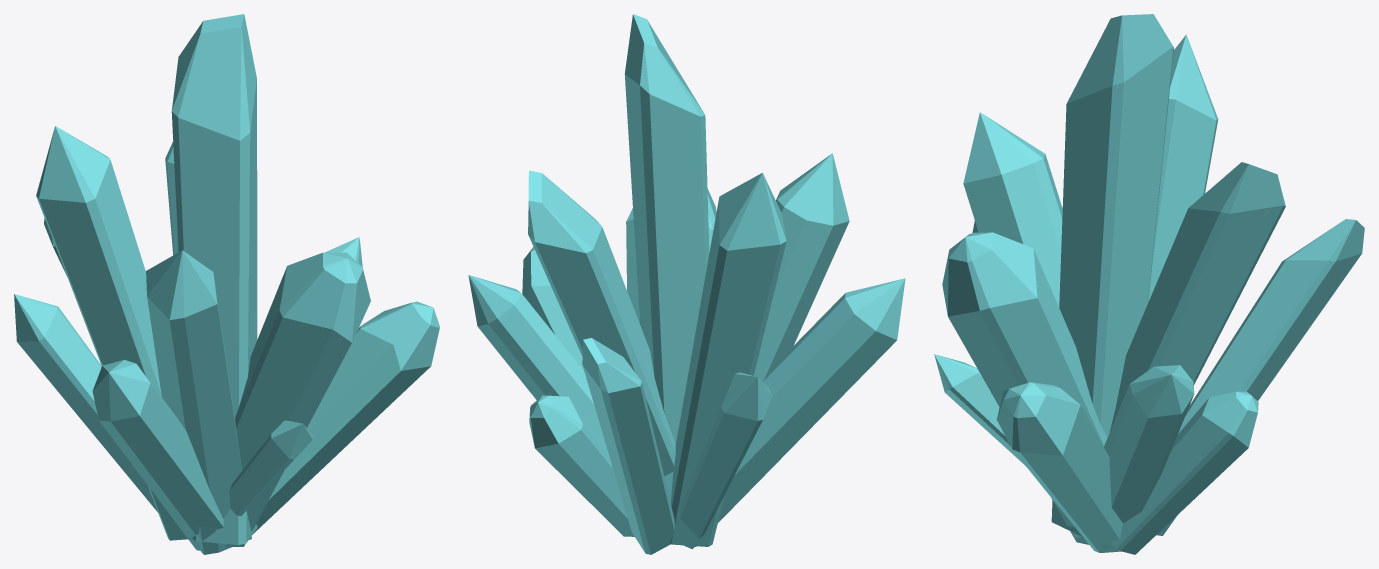
The model's file is crystals_1.fbx.
3 views of the same model, side by side, from view 1: azimuth 30°, elevation 25°; view 2: azimuth 150°, elevation 25°; view 3: azimuth 270°, elevation 25° (orthographic). The views are drawn at different scales.
Parts seen in each view (by area): view 1: polySurface1; view 2: polySurface1; view 3: polySurface1.
Part boxes in pixels (<box>): polySurface1: <box>14,14,439,554</box>; polySurface1: <box>468,14,905,554</box>; polySurface1: <box>934,14,1364,554</box>.
Size of the model in its own units: 10.23 by 14.41 by 10.3.
